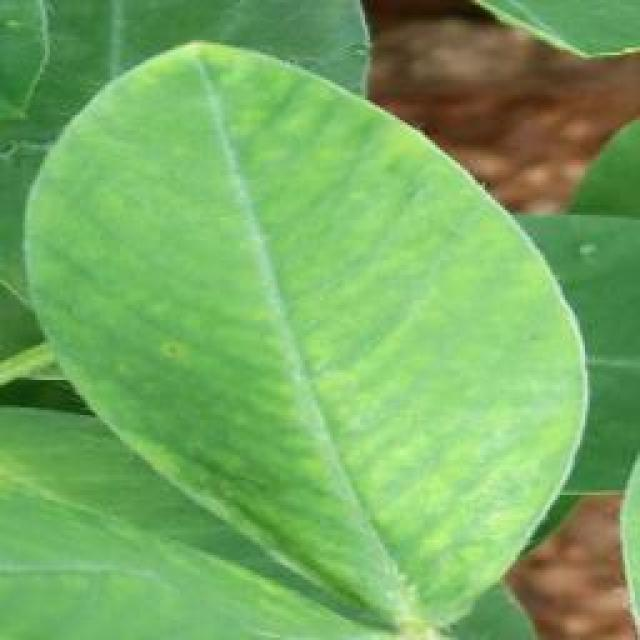Sigatoka: (150, 318, 232, 420)
